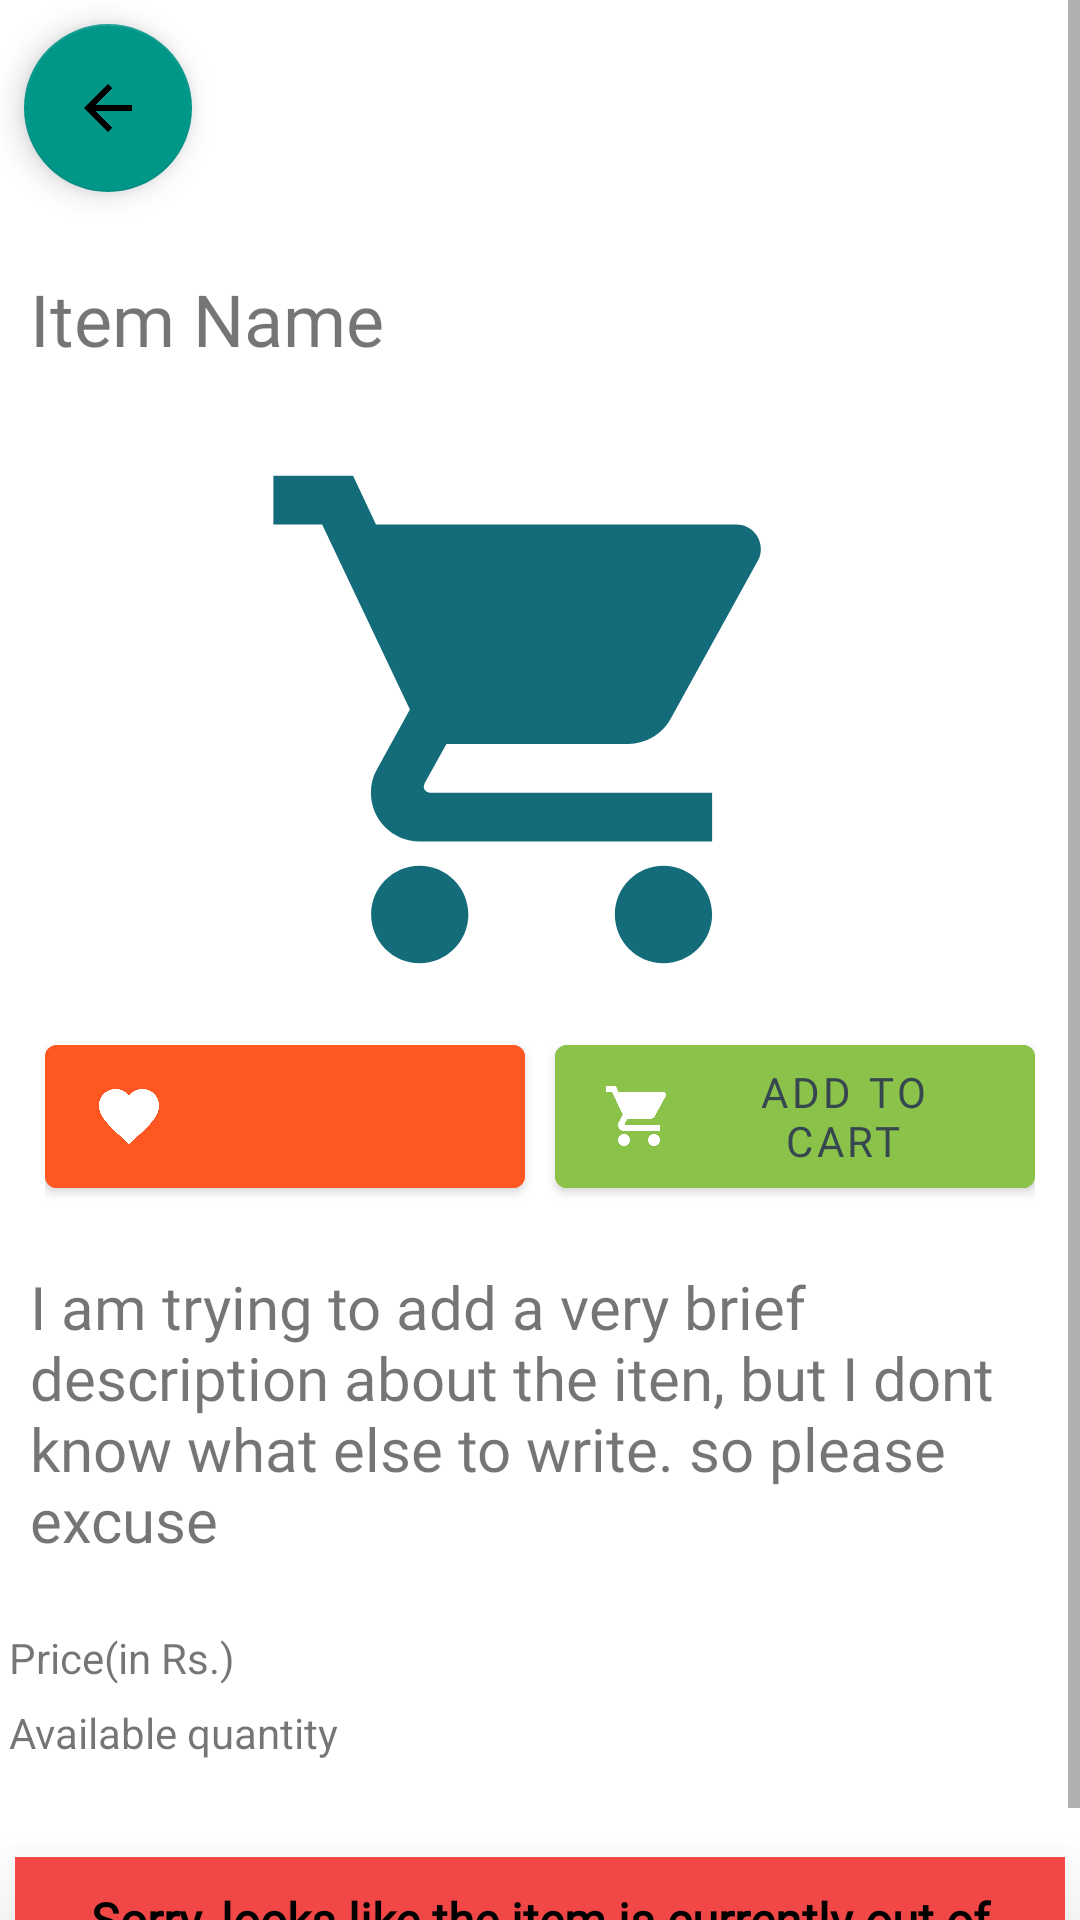

Icon bounding boxes for this 1080*1920 phone screenshot, format (x1, y1, x2, y2):
Back: (24, 24, 192, 192)
